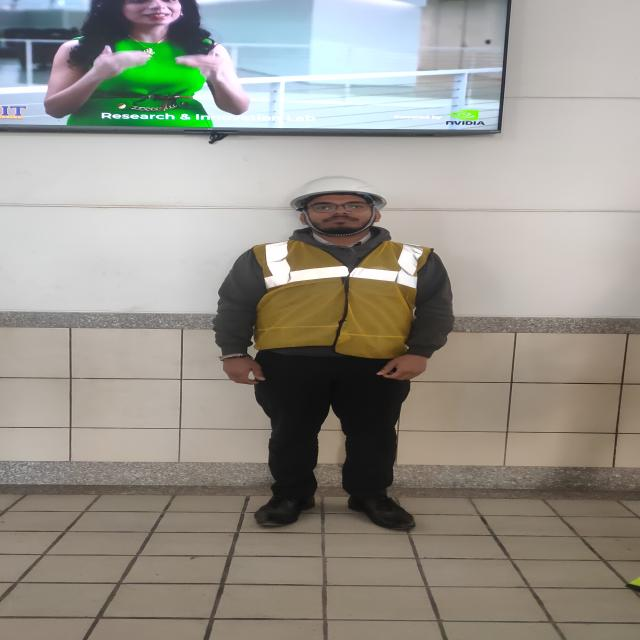safe: (213, 179, 455, 532)
